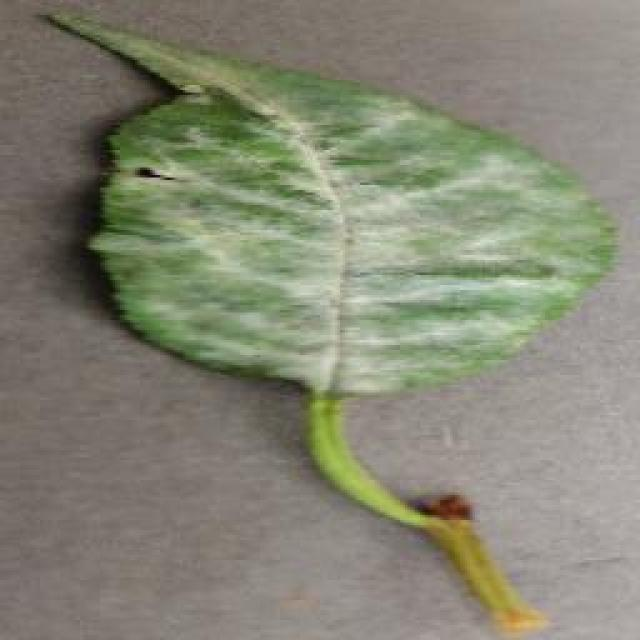Cherry___Powdery_mildew: (48, 0, 628, 638)
